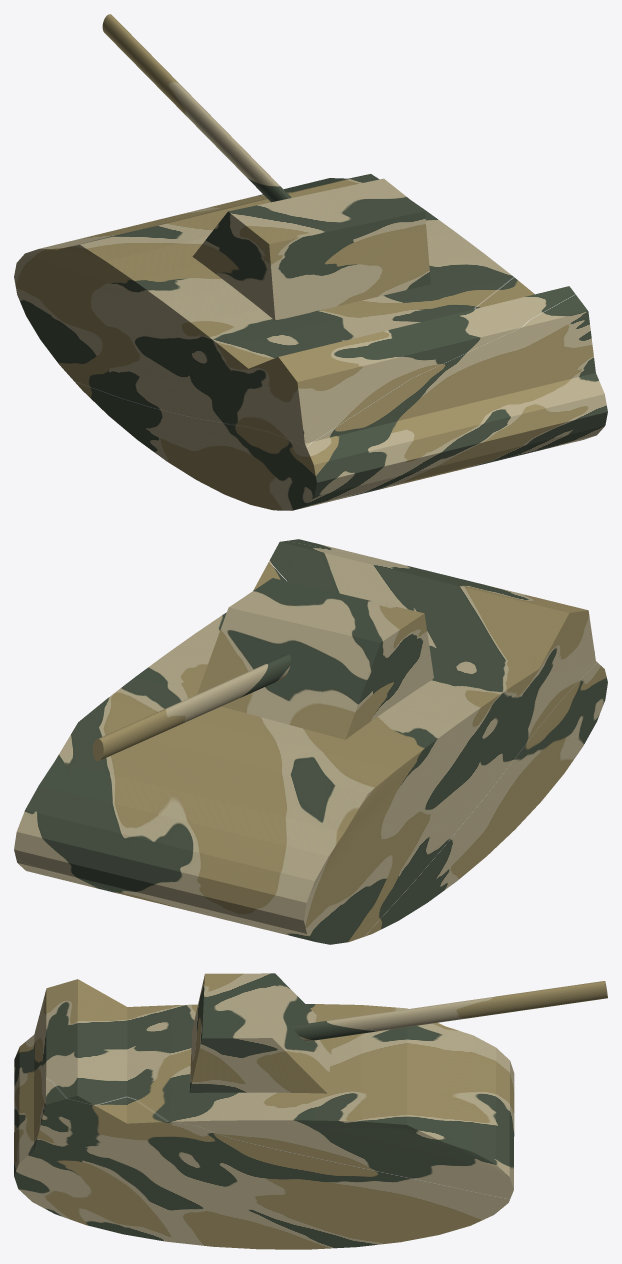
File: tank.fbx
The picture shows the model from 3 angles, top to bottom: view 1: azimuth 30°, elevation 25°; view 2: azimuth 150°, elevation 25°; view 3: azimuth 270°, elevation 25°; orthographic projection. The views are drawn at different scales.
Visible parts, largest first — view 1: chassis, turret; view 2: chassis, turret; view 3: chassis, turret.
Boxes of the visible parts, x1=… form: chassis: x1=14, y1=174, x2=607, y2=510; turret: x1=102, y1=14, x2=430, y2=320; chassis: x1=14, y1=539, x2=607, y2=944; turret: x1=92, y1=578, x2=433, y2=760; chassis: x1=14, y1=979, x2=514, y2=1249; turret: x1=189, y1=973, x2=607, y2=1093.
Bounding box in the file's own units: 380 × 320 × 811.
Materials: 2 (2 with a texture image).
